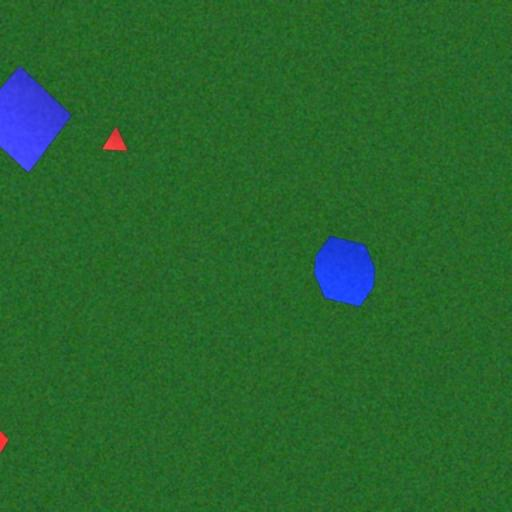BLUE_SQUARE: (0, 66, 73, 174)
